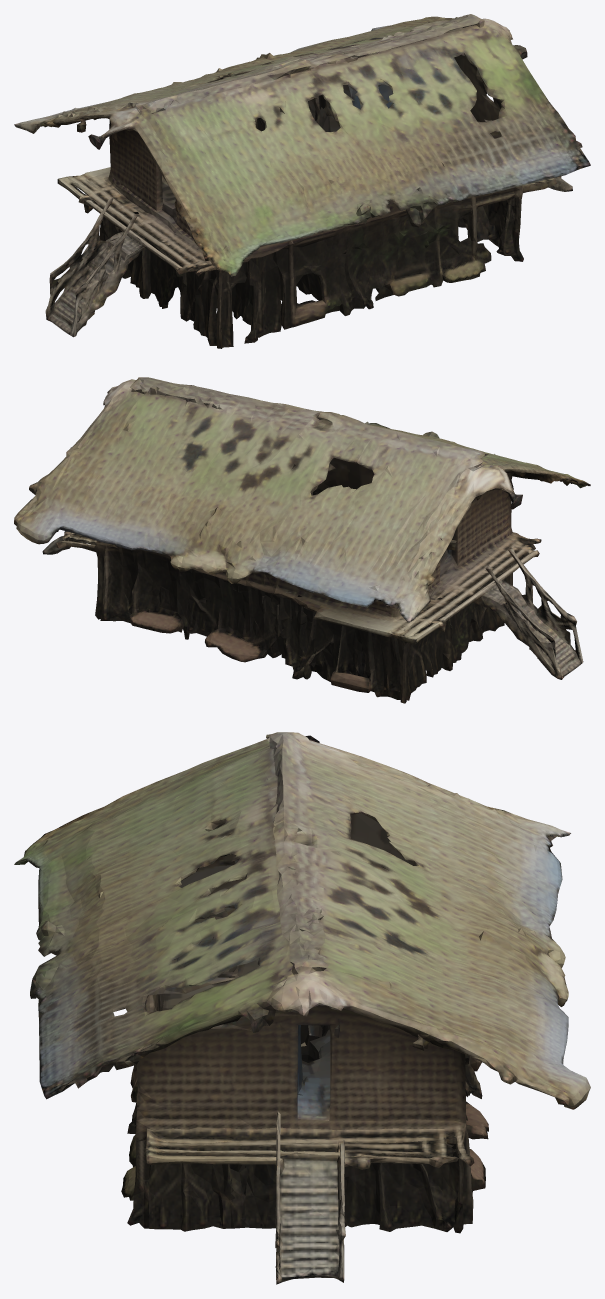
Rendered from papua-barat.glb.
3 views of the same model, one above another, from view 1: azimuth 30°, elevation 25°; view 2: azimuth 150°, elevation 25°; view 3: azimuth 270°, elevation 25° (orthographic). The views are drawn at different scales.
Visible parts, largest first — view 1: world; view 2: world; view 3: world.
Boxes of the visible parts, x1,y1,x2,y2 form: world: (14,14,590,348); world: (14,377,590,703); world: (14,732,590,1284).
Size of the model in its own units: 0.6996 by 0.2835 by 0.4837.
1 material, 1 textured.
